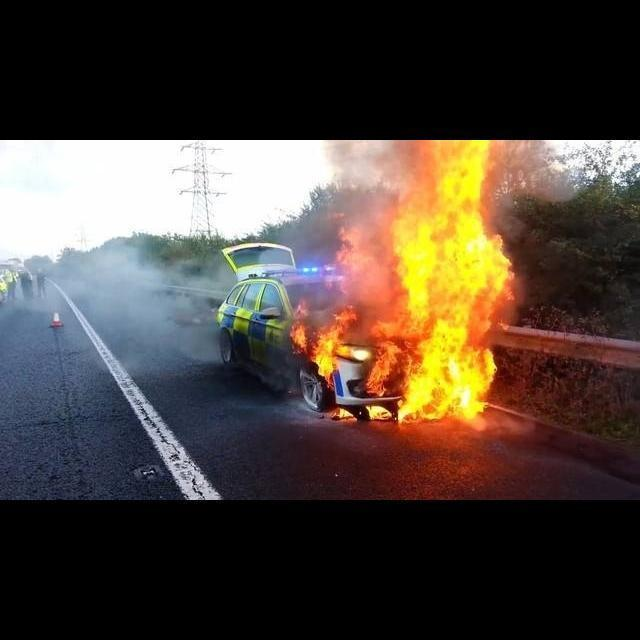Fire: (291, 142, 519, 422)
Smoke: (14, 241, 236, 375), (283, 141, 421, 325), (485, 141, 587, 241)
